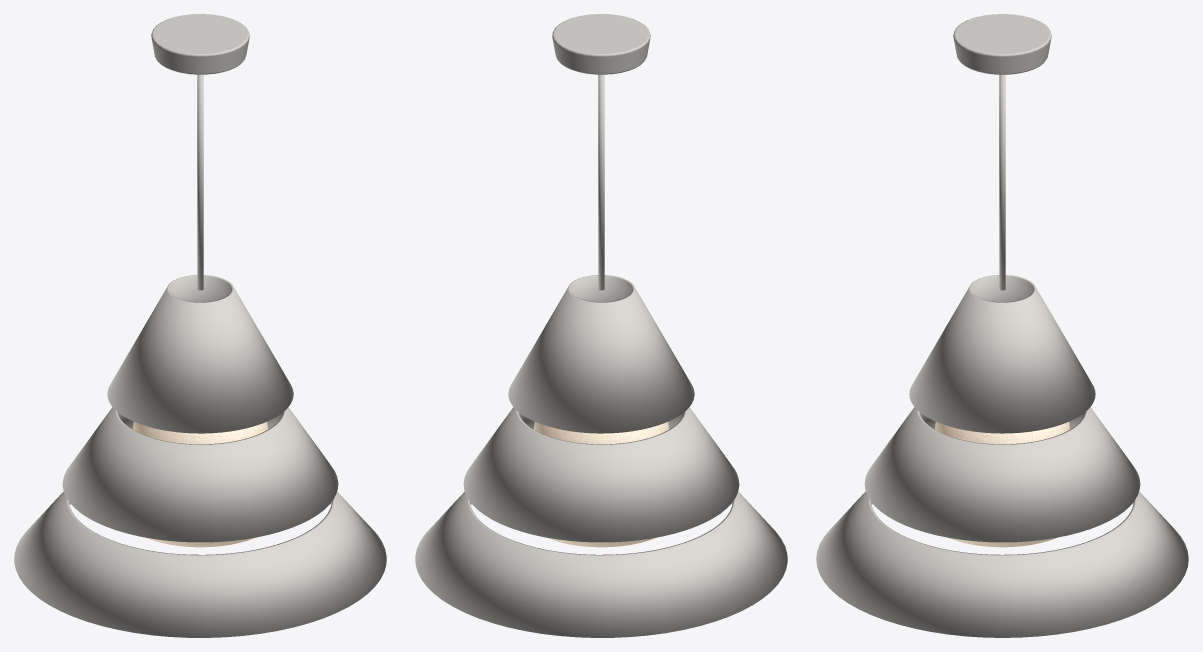
The picture shows the model from 3 angles, left to right: view 1: azimuth 30°, elevation 25°; view 2: azimuth 150°, elevation 25°; view 3: azimuth 270°, elevation 25°; orthographic projection.
Parts seen in each view (by area): view 1: Shade tier 1, Shade tier 2, Shade tier 3, Ceiling canopy, Inner diffuser, Cord; view 2: Shade tier 1, Shade tier 2, Shade tier 3, Ceiling canopy, Inner diffuser, Cord; view 3: Shade tier 1, Shade tier 2, Shade tier 3, Ceiling canopy, Inner diffuser, Cord.
Boxes of the visible parts, bbox=[...] form: Shade tier 1: bbox=[14, 491, 386, 637]; Shade tier 2: bbox=[62, 407, 338, 542]; Shade tier 3: bbox=[107, 275, 293, 433]; Ceiling canopy: bbox=[151, 14, 249, 74]; Inner diffuser: bbox=[132, 422, 268, 547]; Cord: bbox=[197, 74, 203, 290]; Shade tier 1: bbox=[415, 491, 787, 637]; Shade tier 2: bbox=[463, 407, 739, 542]; Shade tier 3: bbox=[508, 275, 694, 433]; Ceiling canopy: bbox=[552, 14, 650, 74]; Inner diffuser: bbox=[533, 422, 669, 547]; Cord: bbox=[598, 74, 604, 290]; Shade tier 1: bbox=[816, 491, 1188, 637]; Shade tier 2: bbox=[864, 407, 1140, 542]; Shade tier 3: bbox=[909, 275, 1095, 433]; Ceiling canopy: bbox=[953, 14, 1051, 74]; Inner diffuser: bbox=[934, 422, 1070, 547]; Cord: bbox=[999, 74, 1005, 290].
Size of the model in its own units: 0.45 by 0.7 by 0.45.
Materials: 2 (1 with a texture image).
